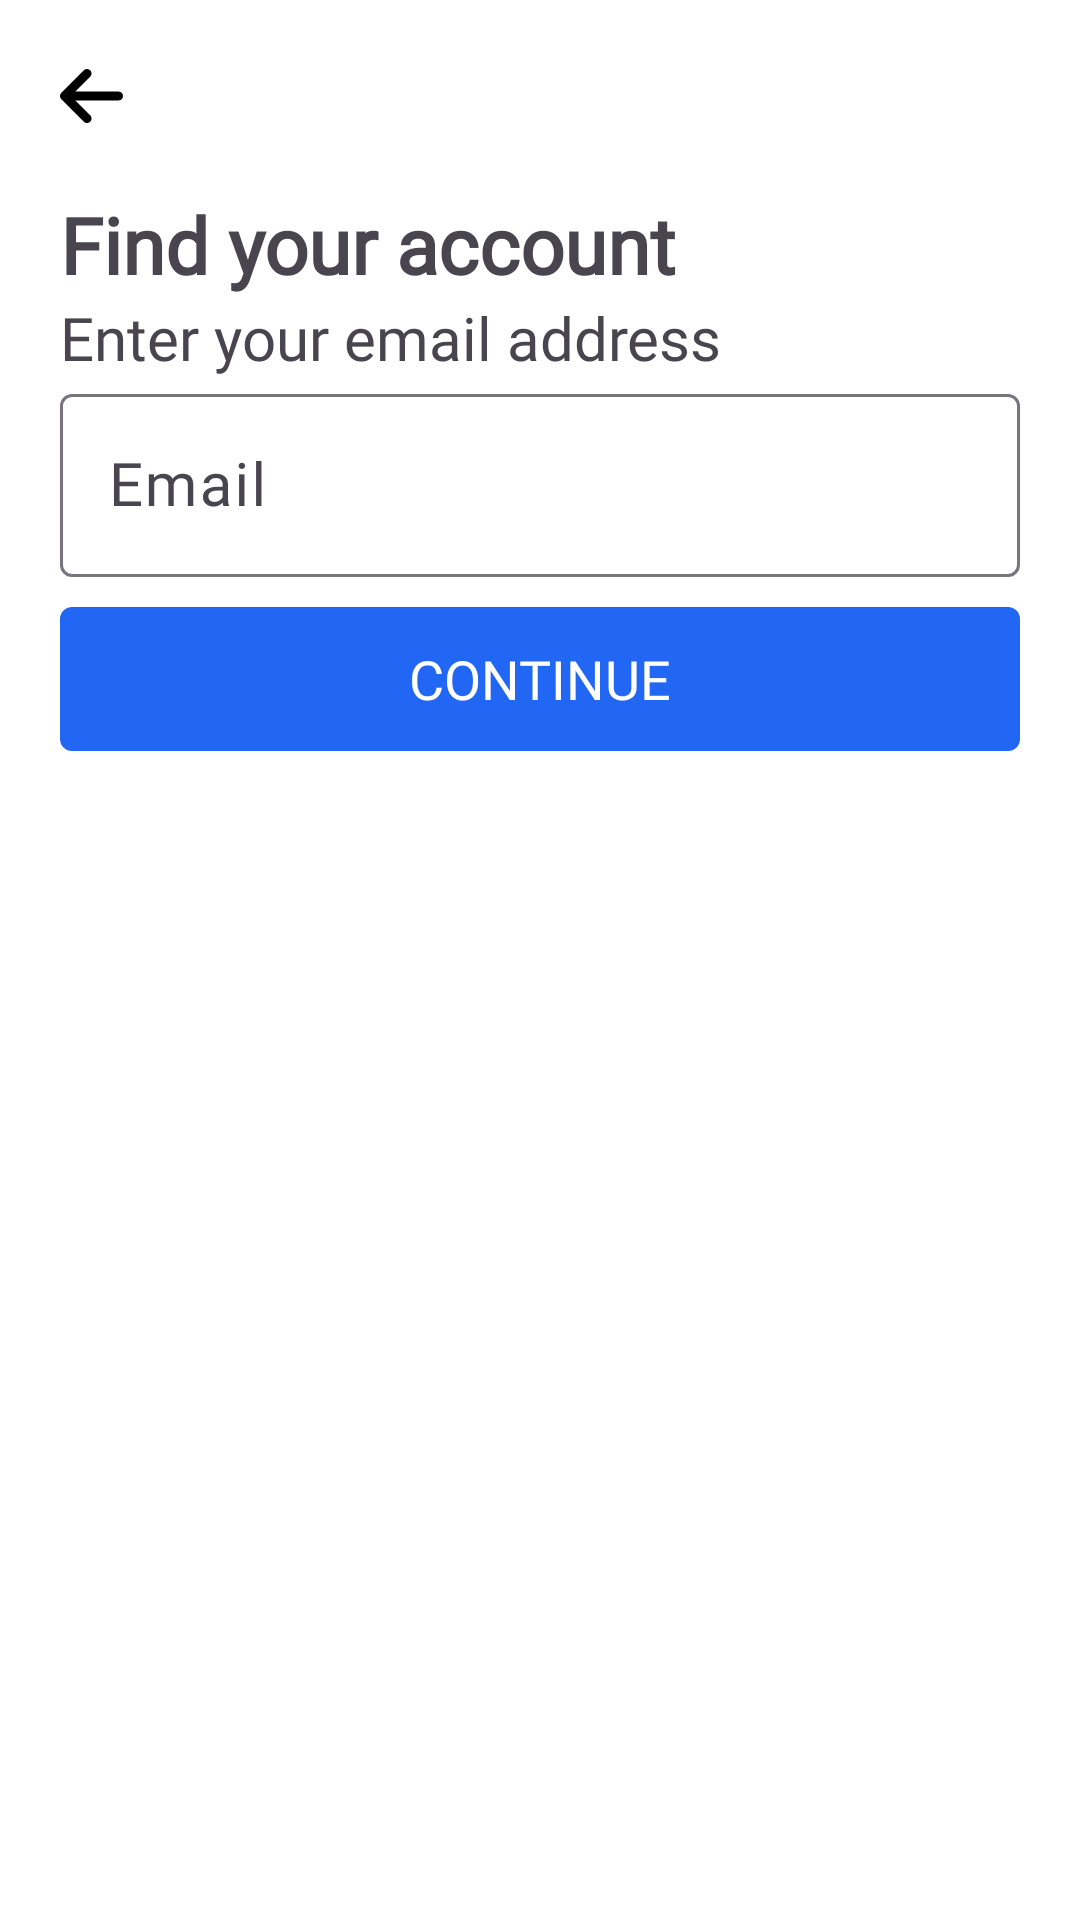

Icon click points for this 1080px x 1920px phone screenshot, format [x,y]:
arrow left: [91,96]
